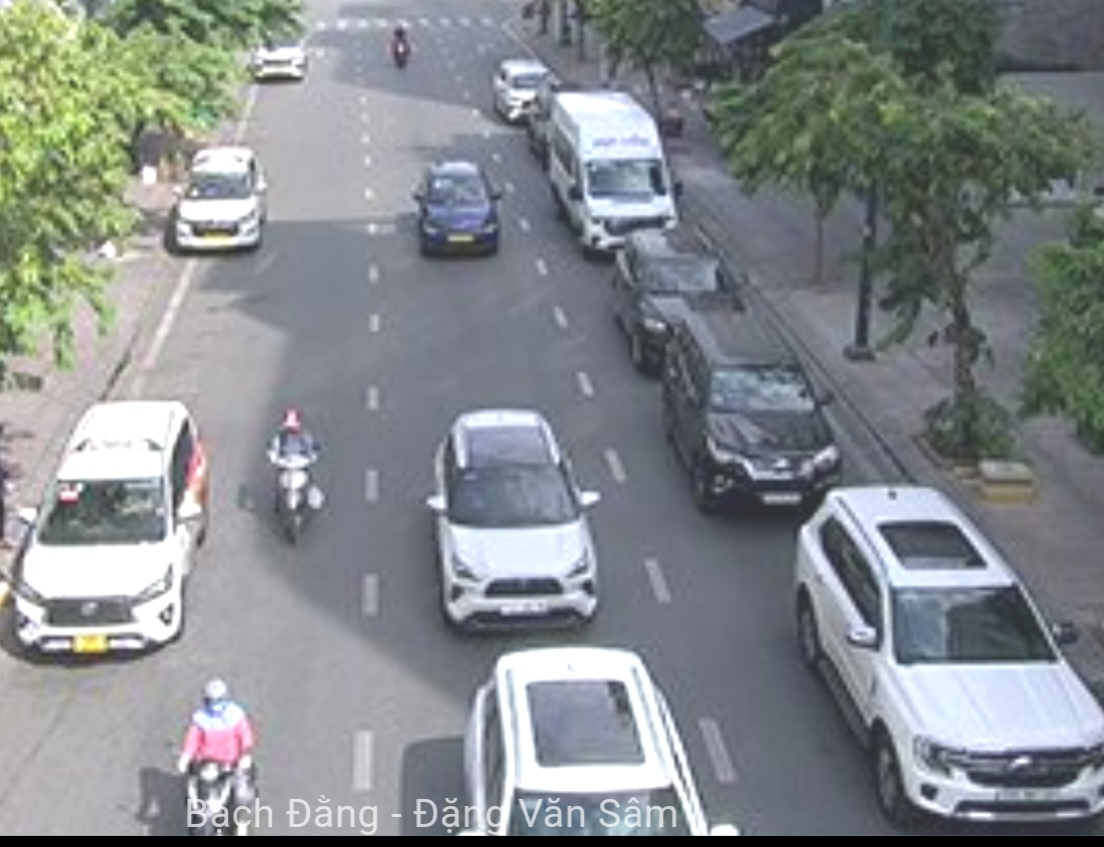car: (793, 490, 1101, 838), (17, 398, 207, 660), (461, 669, 714, 847), (426, 415, 599, 629), (666, 312, 841, 510), (553, 95, 681, 252), (616, 234, 749, 359), (171, 148, 269, 249), (416, 159, 508, 260)
